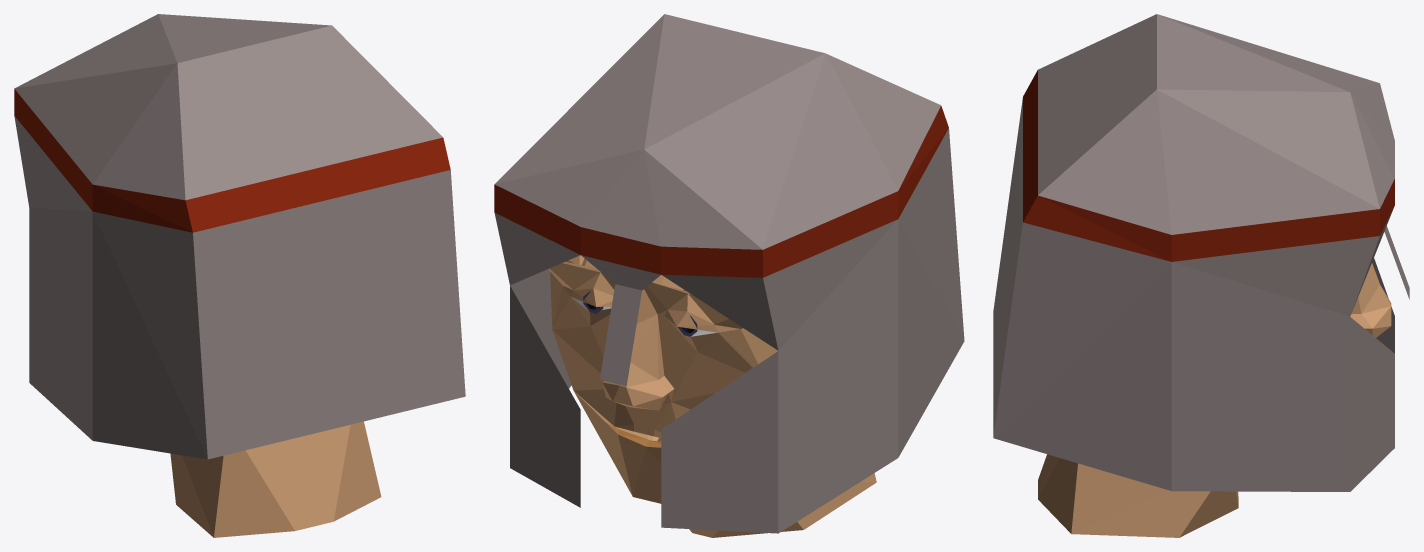
The model's file is npc_chat_sir_palomedes_0.obj.
3 renders of one model, left to right at view 1: azimuth 30°, elevation 25°; view 2: azimuth 150°, elevation 25°; view 3: azimuth 270°, elevation 25°, orthographic. The views are drawn at different scales.
Bounding box in the file's own units: 0.75 × 1.05 × 0.875.
